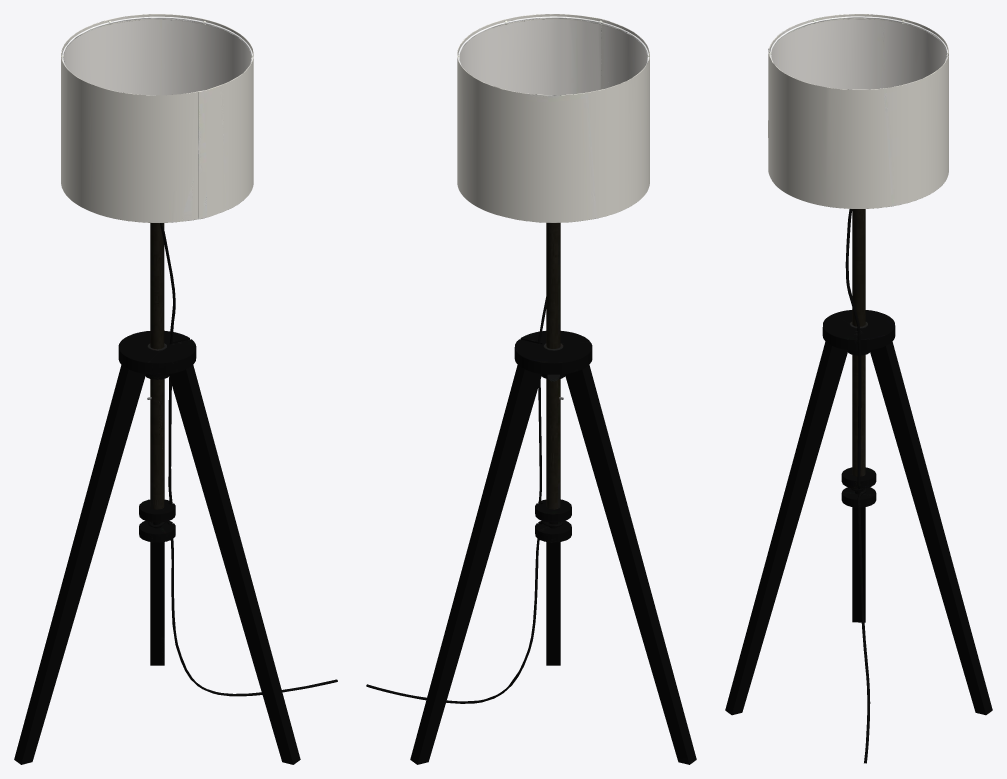
The model's file is ikea-lauters-floor-lamp-brown-ash-demo.glb.
3 views of the same model, side by side, from view 1: azimuth 30°, elevation 25°; view 2: azimuth 150°, elevation 25°; view 3: azimuth 270°, elevation 25° (orthographic). The views are drawn at different scales.
Visible parts, largest first — view 1: 80405073-LAUTERS001; view 2: 80405073-LAUTERS001; view 3: 80405073-LAUTERS001.
Part boxes in pixels (x1,y1,x2,y2): 80405073-LAUTERS001: [14, 14, 337, 764]; 80405073-LAUTERS001: [366, 14, 696, 764]; 80405073-LAUTERS001: [725, 14, 992, 763].
Bounding box in the file's own units: 0.7191 × 1.43 × 0.5527.
Materials: 1 (1 with a texture image).
